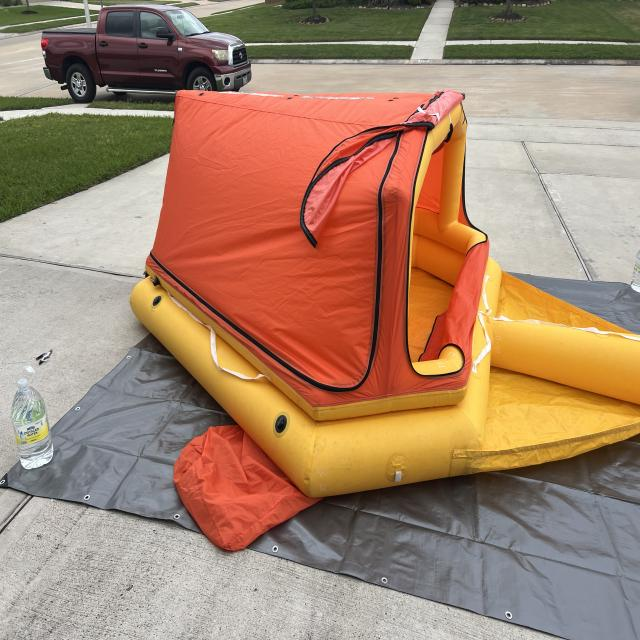Multi-person_life_raft: (130, 86, 640, 551)
